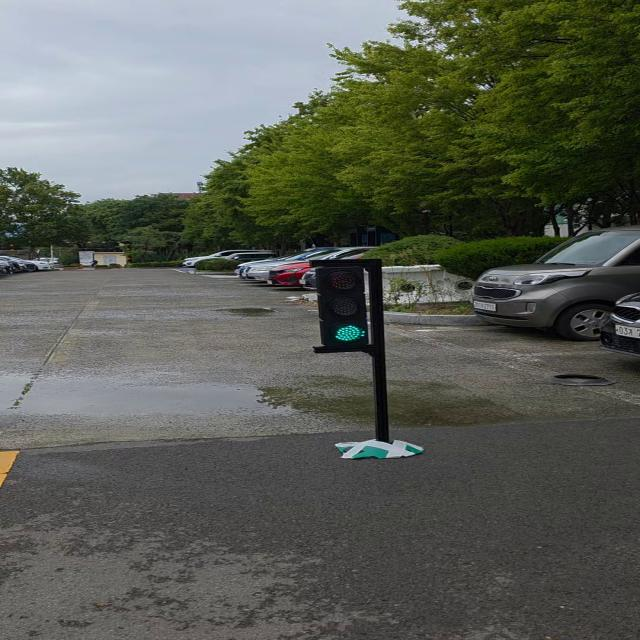green: (318, 261, 384, 349)
